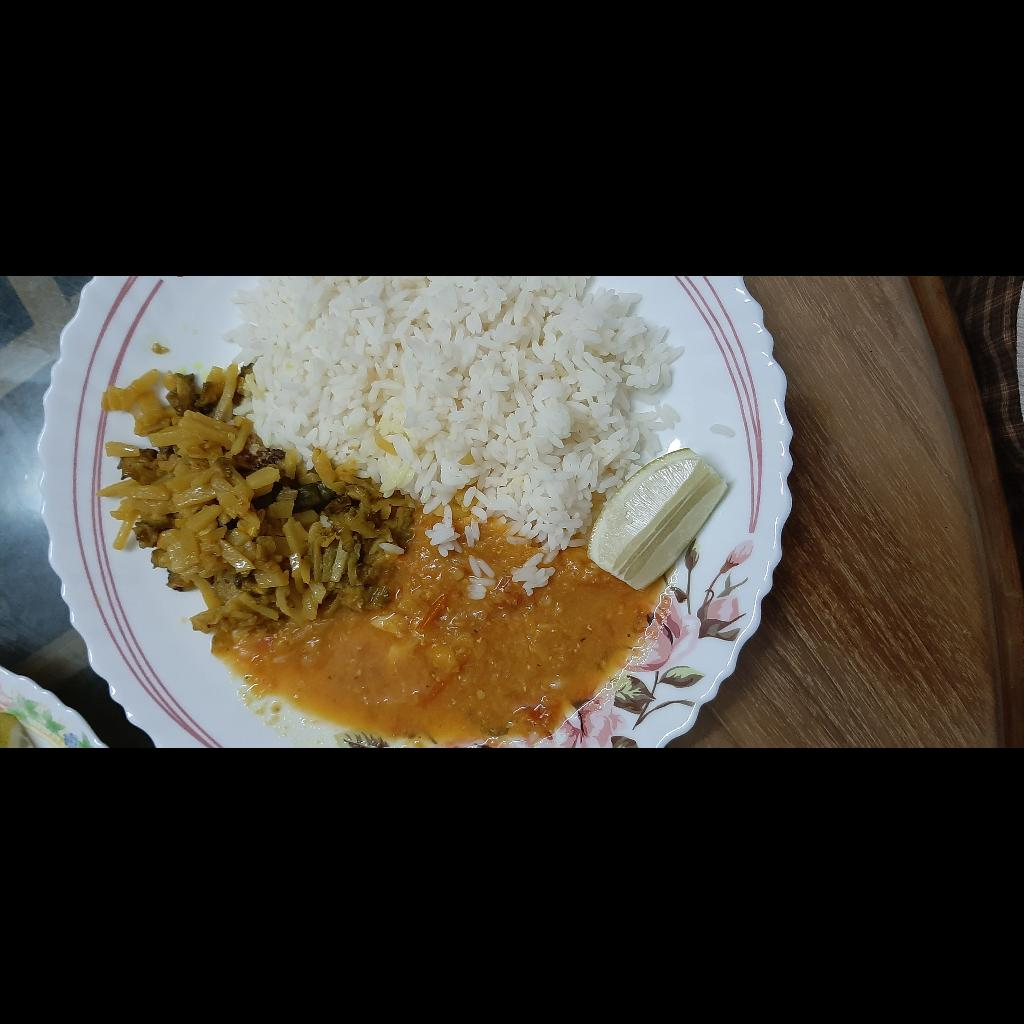daal: (0, 492, 237, 945)
lemon: (155, 859, 294, 1000)
potato: (110, 370, 383, 689)
rice: (145, 494, 472, 960)
